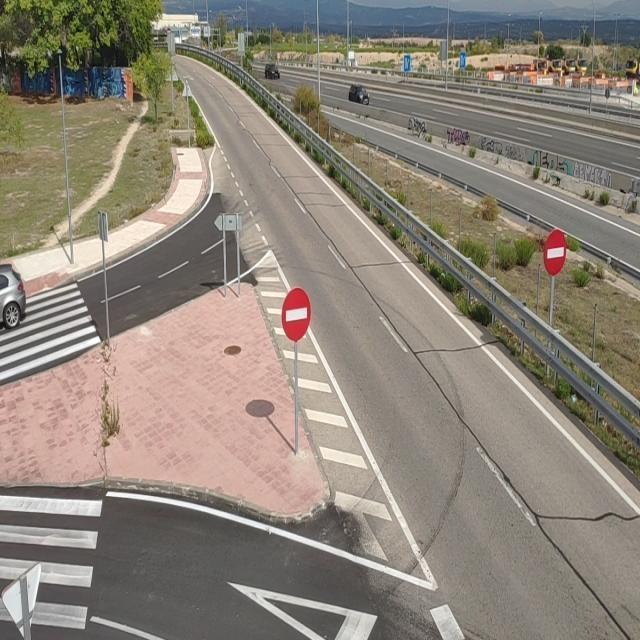Car: (348, 83, 371, 105), (265, 64, 282, 80)
